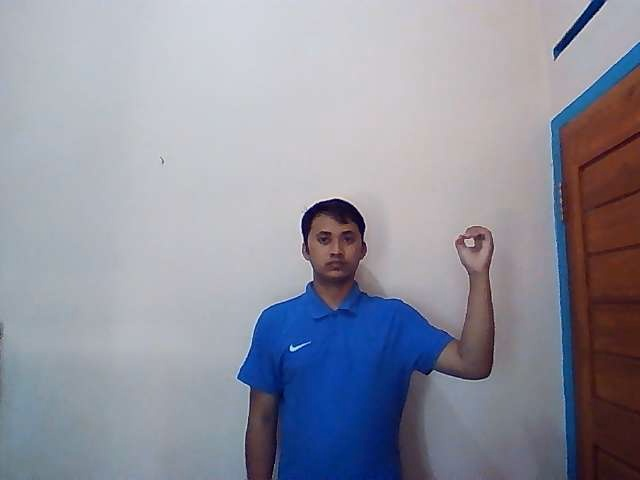O: (452, 224, 494, 269)
